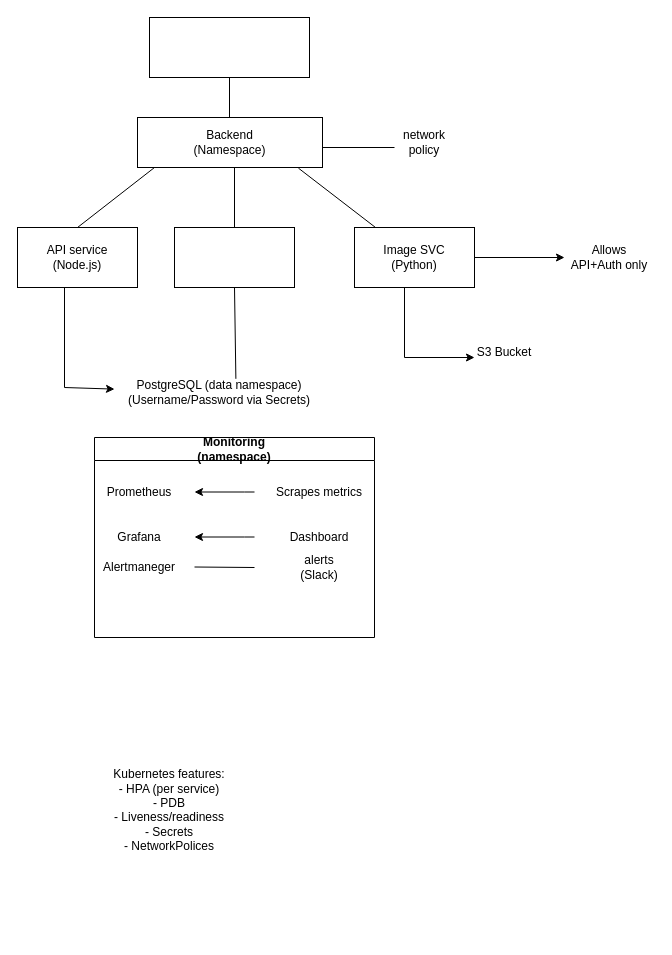
This 672x955 diagram has some shape labels left out. Each missing label, with the centre of its shape:
Auth Service (GO): the point at 234,257
Ingress NGINX (Ingress namespaces, TLS): the point at 229,47
